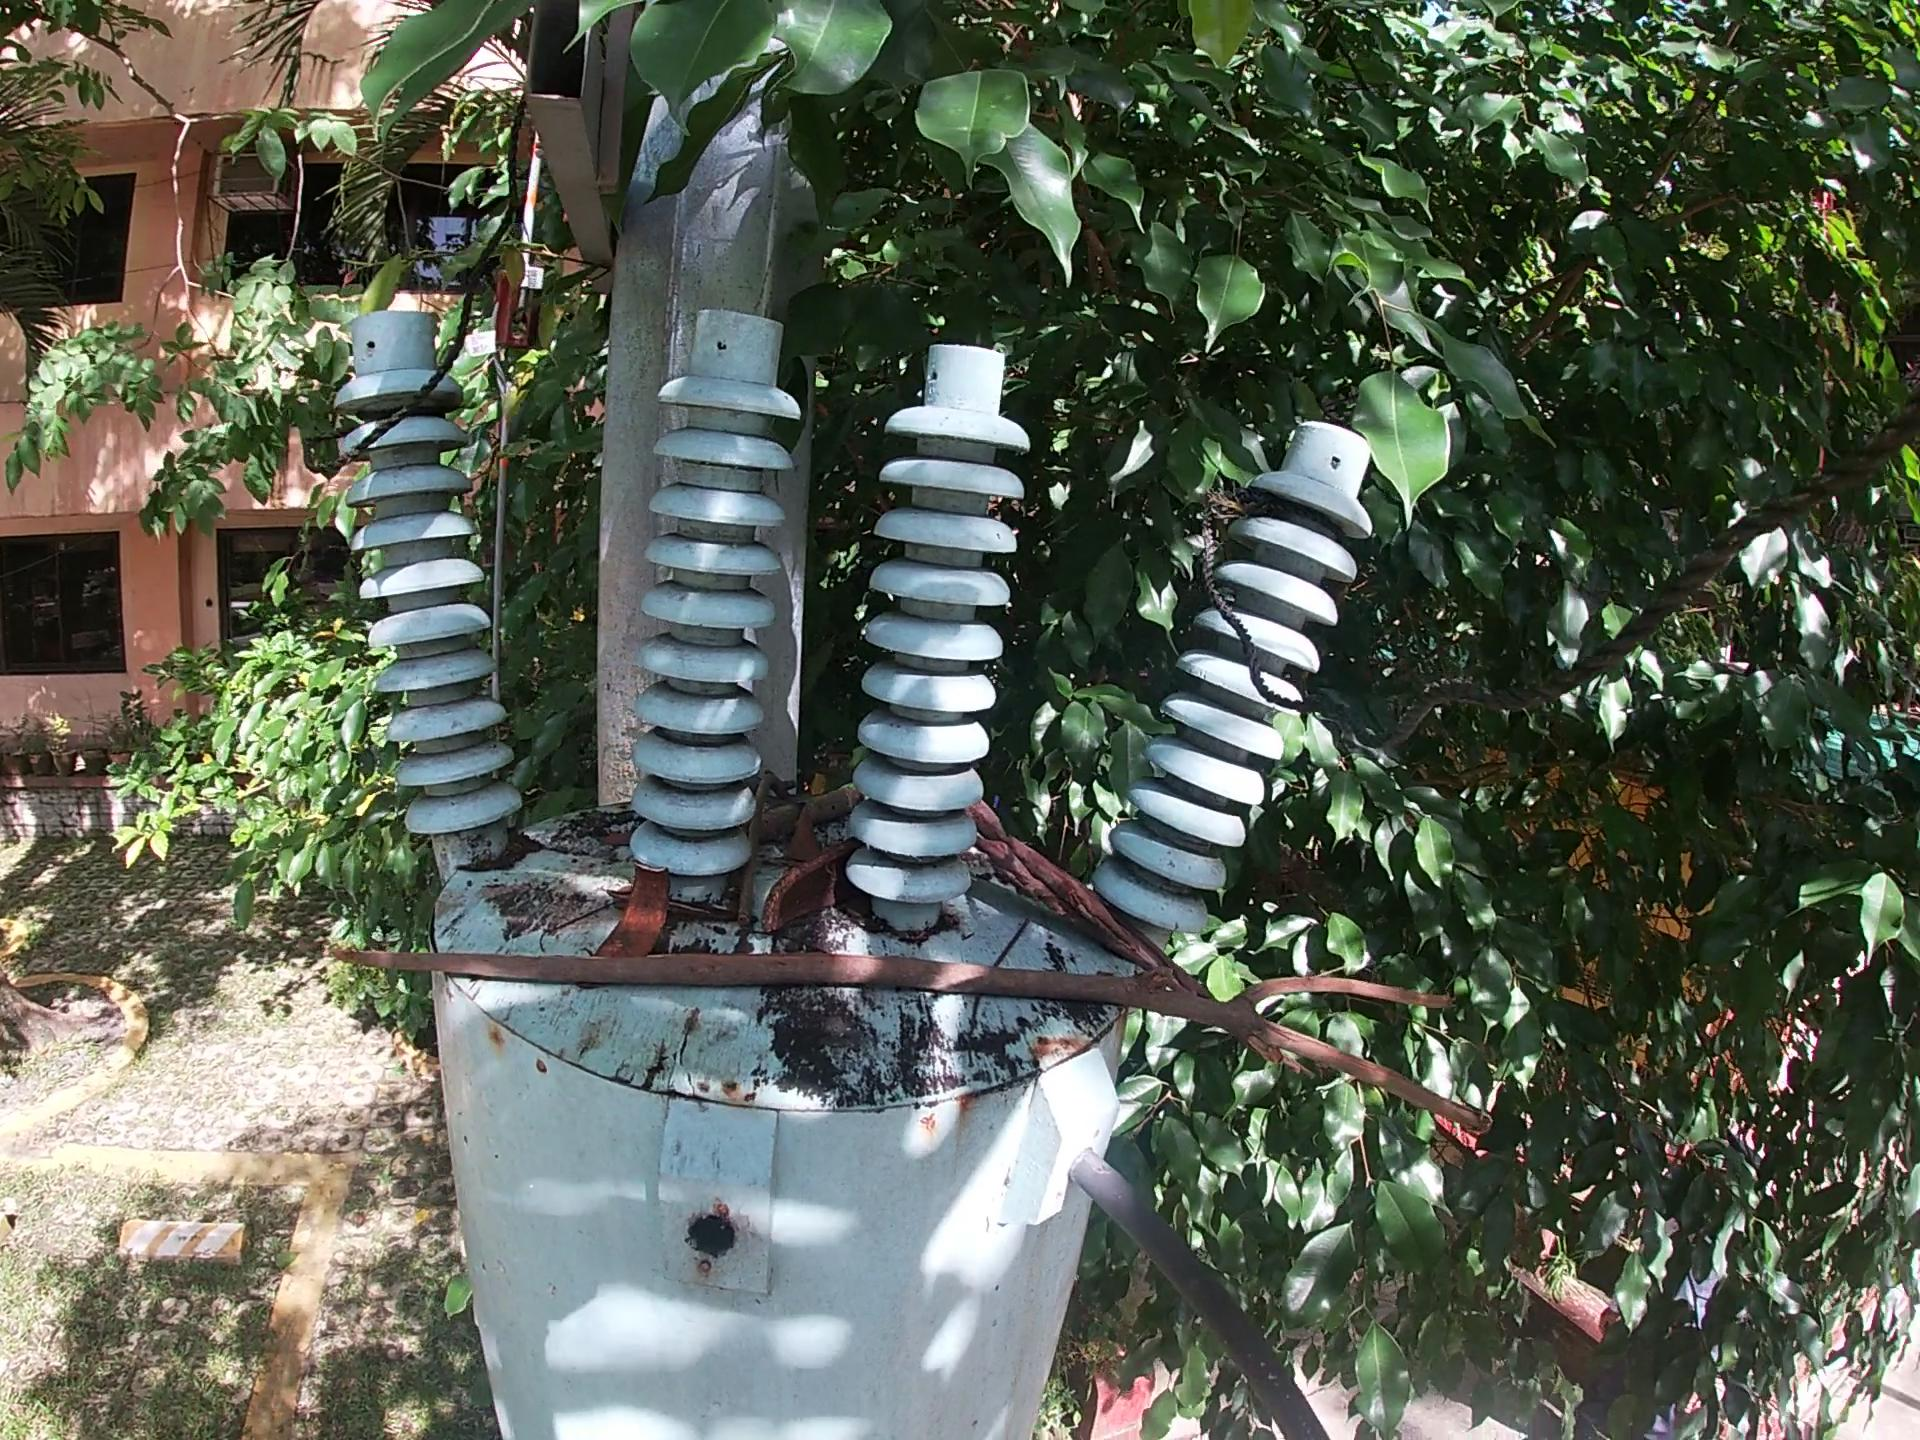leaf: (785, 811, 827, 870), (596, 824, 639, 855)
mahogany fruit: (762, 839, 863, 942), (590, 858, 683, 954)
tree branch: (311, 926, 1504, 1137), (971, 790, 1308, 1082), (720, 768, 801, 926), (739, 781, 868, 846)
